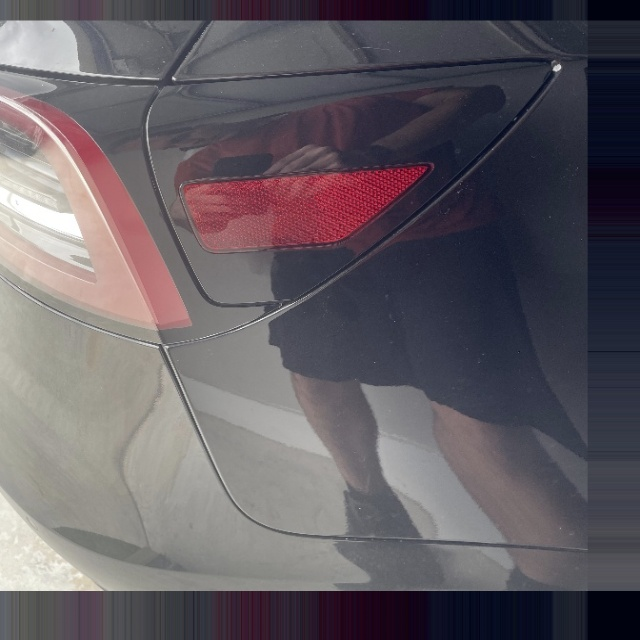reflector: (178, 160, 437, 254)
